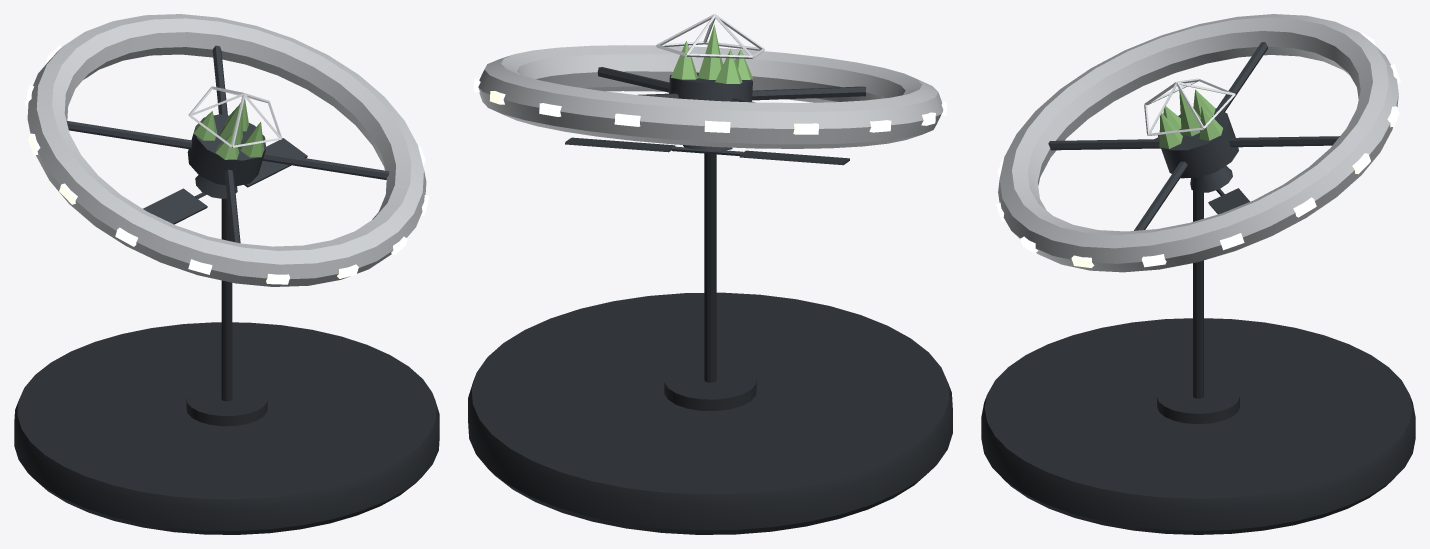
Rendered from turntable.glb.
The picture shows the model from 3 angles, left to right: view 1: azimuth 30°, elevation 25°; view 2: azimuth 150°, elevation 25°; view 3: azimuth 270°, elevation 25°; orthographic projection. The views are drawn at different scales.
Visible parts, largest first — view 1: Plinth, Ring, Hub, Rod, Solar, Trees, Windows, Dome; view 2: Plinth, Ring, Rod, Hub, Trees, Solar, Windows, Dome; view 3: Plinth, Ring, Hub, Rod, Trees, Windows, Dome, Solar.
Part boxes in pixels (x1,y1,x2,y2): Plinth: [14, 322, 439, 534]; Ring: [27, 14, 426, 286]; Hub: [66, 45, 389, 243]; Rod: [186, 198, 267, 426]; Solar: [143, 138, 307, 224]; Trees: [193, 99, 263, 159]; Windows: [24, 25, 429, 284]; Dome: [188, 86, 282, 147]; Plinth: [468, 292, 952, 534]; Ring: [478, 45, 943, 148]; Rod: [664, 153, 756, 410]; Hub: [597, 67, 866, 150]; Trees: [671, 24, 752, 83]; Solar: [565, 137, 849, 165]; Windows: [474, 78, 946, 134]; Dome: [656, 14, 764, 58]; Plinth: [981, 318, 1415, 534]; Ring: [998, 14, 1398, 272]; Hub: [1048, 42, 1339, 230]; Rod: [1157, 190, 1239, 424]; Trees: [1159, 89, 1222, 148]; Windows: [996, 33, 1400, 267]; Dome: [1144, 78, 1235, 135]; Solar: [1154, 137, 1249, 214].
Size of the model in its own units: 2.3 by 2.18 by 2.3.
